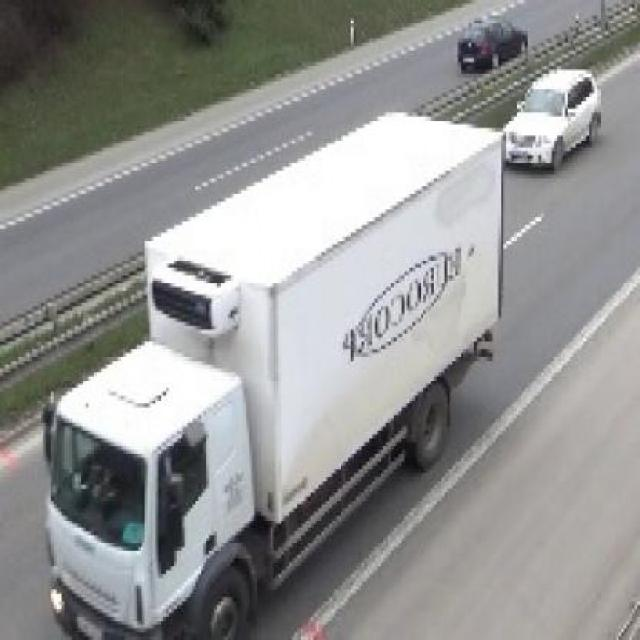truck: (41, 98, 503, 638)
